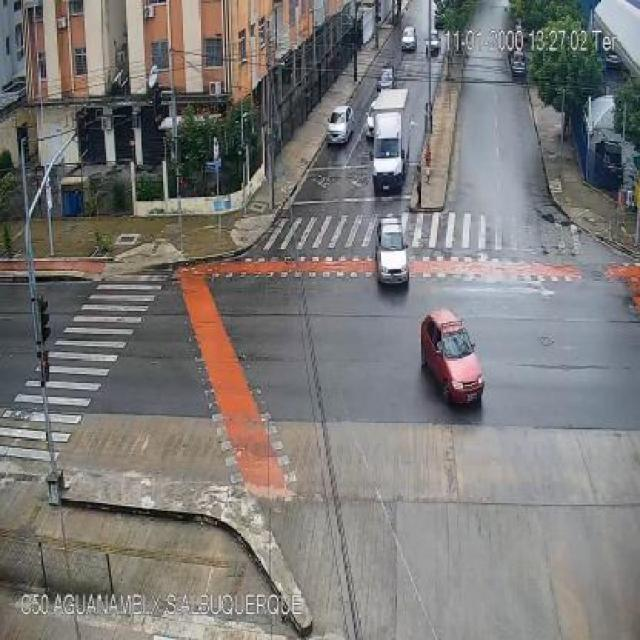Car: (421, 310, 484, 404), (372, 218, 410, 286), (594, 138, 626, 178), (325, 106, 356, 144), (366, 100, 380, 138), (376, 66, 395, 92), (400, 26, 418, 51), (424, 30, 442, 55), (510, 52, 526, 78)
Truck: (370, 86, 412, 196)
